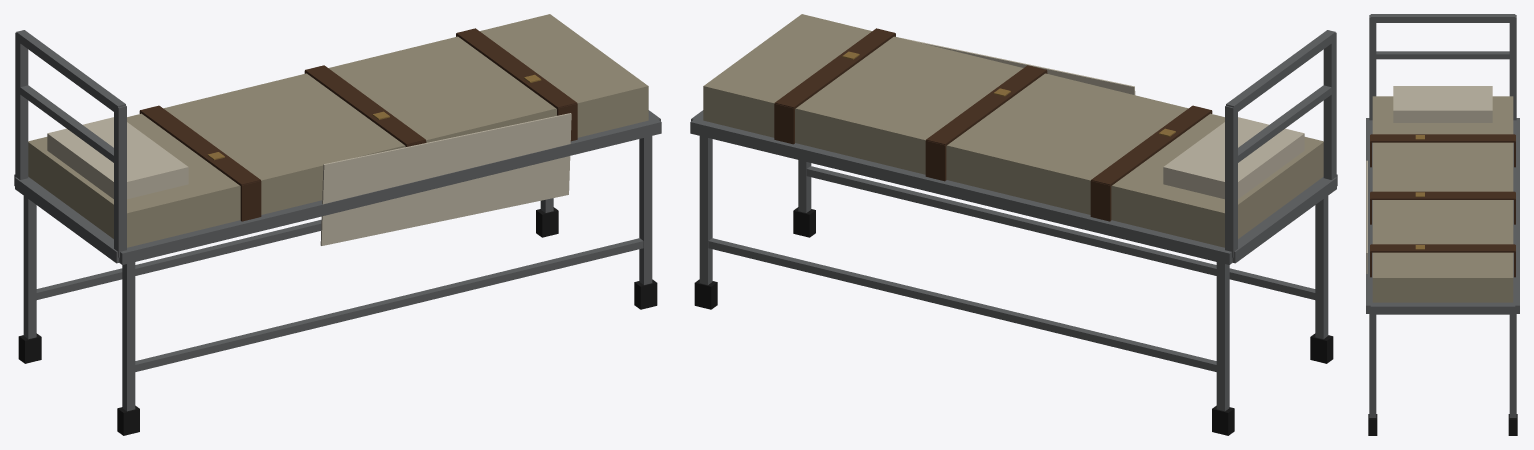
The model's file is ward_gurney.glb.
3 renders of one model, left to right at view 1: azimuth 30°, elevation 25°; view 2: azimuth 150°, elevation 25°; view 3: azimuth 270°, elevation 25°, orthographic. The views are drawn at different scales.
Visible parts, largest first — view 1: ward_gurney; view 2: ward_gurney; view 3: ward_gurney.
Boxes of the visible parts, <box> form: ward_gurney: <box>14,14,661,435</box>; ward_gurney: <box>690,14,1337,435</box>; ward_gurney: <box>1366,14,1519,435</box>.
Size of the model in its own units: 1.98 by 1.14 by 0.68.
